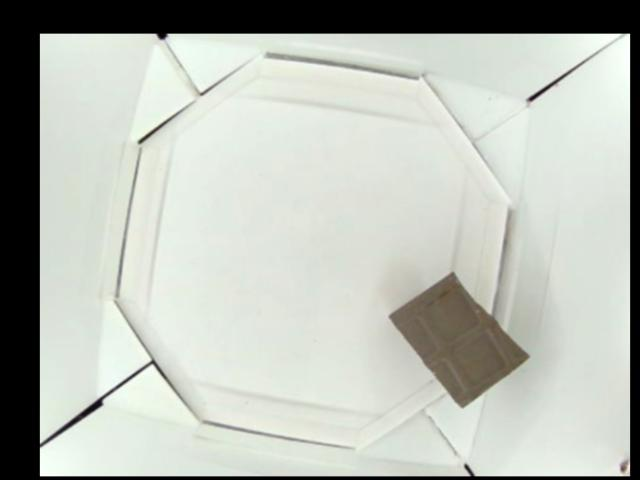China: (390, 267, 530, 411)
